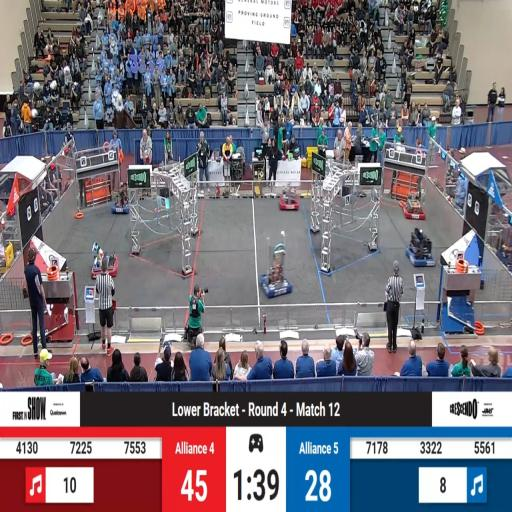robot: (262, 250, 292, 298), (406, 228, 436, 268), (92, 245, 120, 276), (279, 185, 299, 211), (112, 187, 130, 215), (404, 198, 425, 220)
